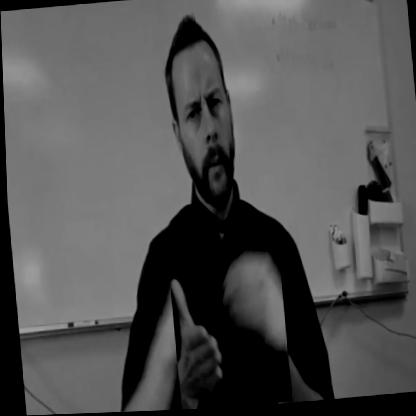Expensive: (163, 226, 289, 411)
